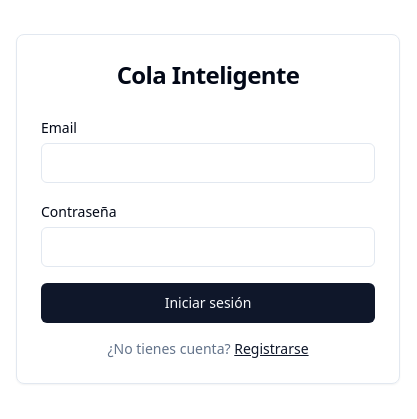
Test: LoginPage — login fallido (CA-04) › muestra "Credenciales inválidas." ante un 401
The width and height of the screenshot is (417, 419).
In the field labelled "Email": (208, 163) [41,143,375,183], type "wrong@test.com"
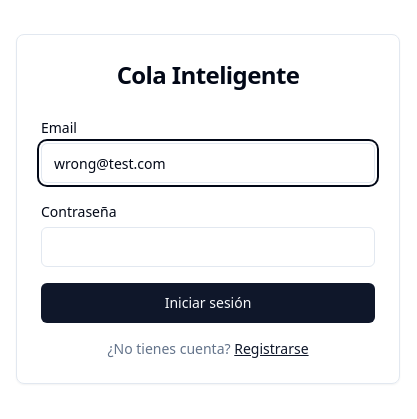
In the password field labelled "Contraseña": (208, 247) [41,227,375,267], type "WrongPass1"
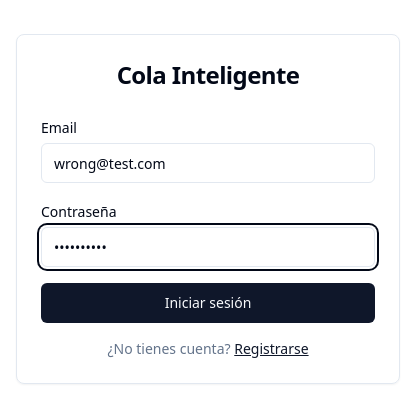
Click the button "Iniciar sesión": (208, 303) [41,283,375,323]
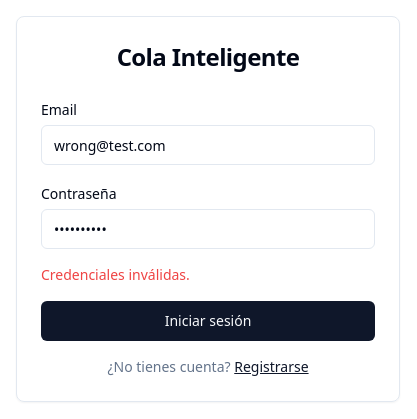
Now the text "Credenciales inválidas." is shown, box [41,265,190,284]
